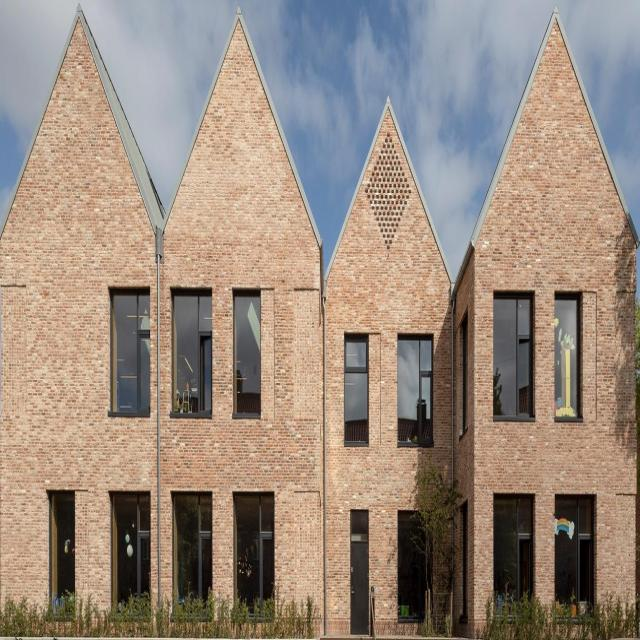door: (350, 509, 370, 634)
plant: (0, 579, 321, 635), (484, 583, 637, 635)
wall: (0, 3, 637, 635)
windows: (173, 292, 212, 412), (493, 296, 532, 416), (112, 291, 150, 414), (234, 491, 276, 599), (492, 493, 534, 594), (111, 490, 151, 594), (173, 492, 213, 594), (556, 496, 596, 598), (397, 338, 433, 441), (555, 295, 579, 420), (398, 510, 425, 617), (236, 293, 260, 412), (51, 492, 75, 594), (345, 338, 367, 440)
